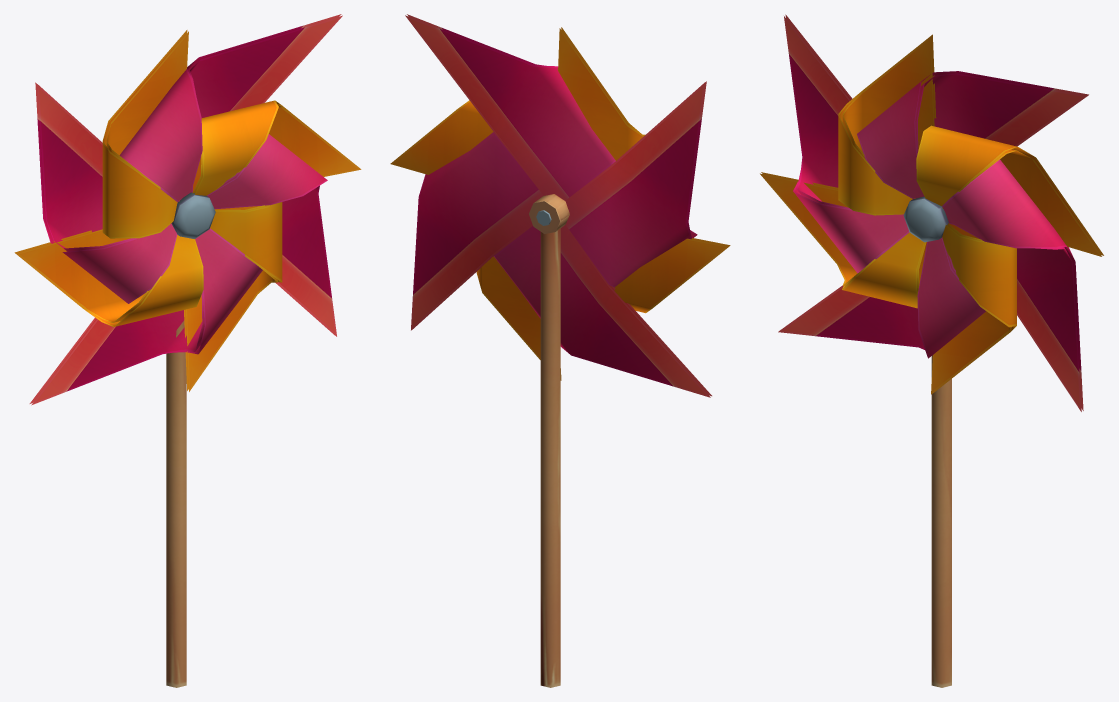
File: SE_Vane_04.fbx
3 renders of one model, left to right at view 1: azimuth 30°, elevation 25°; view 2: azimuth 150°, elevation 25°; view 3: azimuth 330°, elevation 25°, orthographic.
Parts seen in each view (by area): view 1: SE_Vane_04; view 2: SE_Vane_04; view 3: SE_Vane_04.
Part boxes in pixels (box(x1,y1,x2,y2)): SE_Vane_04: box(14, 14, 361, 687); SE_Vane_04: box(390, 14, 730, 687); SE_Vane_04: box(760, 14, 1103, 687).
Size of the model in its own units: 2.54 by 4.63 by 0.4242.
